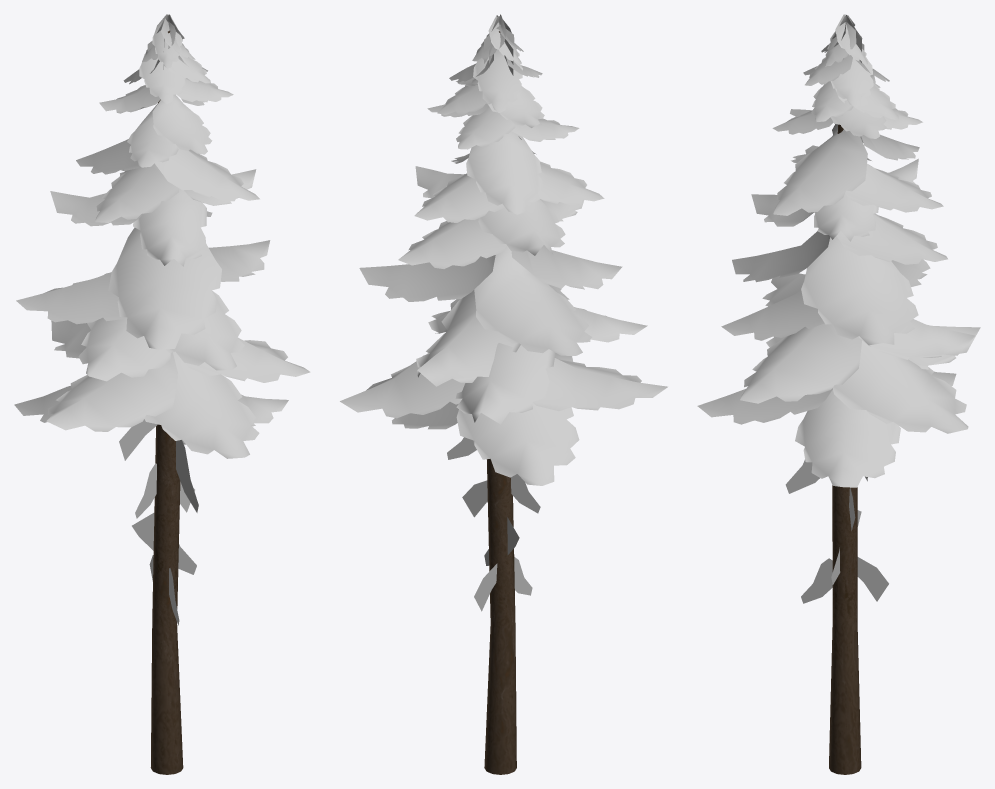
Rendered from PineTree_3_LOD.fbx.
3 renders of one model, left to right at view 1: azimuth 30°, elevation 25°; view 2: azimuth 150°, elevation 25°; view 3: azimuth 270°, elevation 25°, orthographic.
Parts seen in each view (by area): view 1: TreeLeaves_3_LOD0, TreeTrunk_3_LOD0; view 2: TreeLeaves_3_LOD0, TreeTrunk_3_LOD0; view 3: TreeLeaves_3_LOD0, TreeTrunk_3_LOD0.
Part boxes in pixels (x1,y1,x2,y2): TreeLeaves_3_LOD0: [14, 14, 310, 625]; TreeTrunk_3_LOD0: [150, 30, 183, 774]; TreeLeaves_3_LOD0: [340, 14, 667, 611]; TreeTrunk_3_LOD0: [484, 31, 516, 774]; TreeLeaves_3_LOD0: [697, 14, 980, 603]; TreeTrunk_3_LOD0: [829, 124, 861, 774].
Size of what is drawn, in the model's own units: 379 by 1023 by 349.
